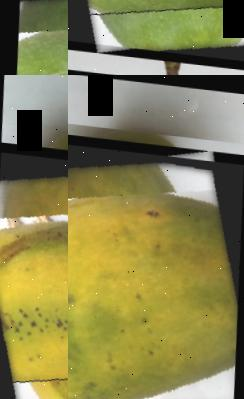PartiallyRipe: (68, 139, 244, 399), (0, 151, 68, 399)
Unripe: (68, 0, 244, 63), (0, 0, 68, 75)
